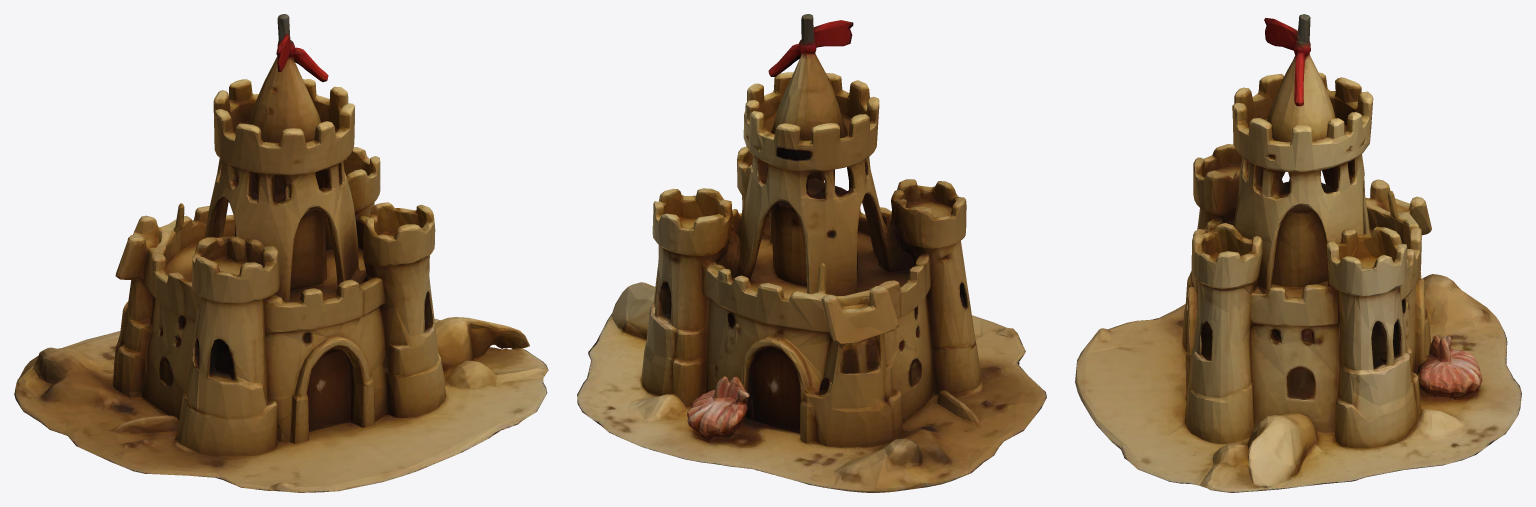
Rendered from sandcastle.glb.
The picture shows the model from 3 angles, left to right: view 1: azimuth 30°, elevation 25°; view 2: azimuth 150°, elevation 25°; view 3: azimuth 270°, elevation 25°; orthographic projection.
Parts seen in each view (by area): view 1: world; view 2: world; view 3: world.
Part boxes in pixels (box(x1,y1,x2,y2)): world: box(14, 14, 548, 492); world: box(577, 14, 1046, 492); world: box(1075, 14, 1521, 492).
Bounding box in the file's own units: 0.995 × 0.8279 × 0.8922.
1 material, 1 textured.
